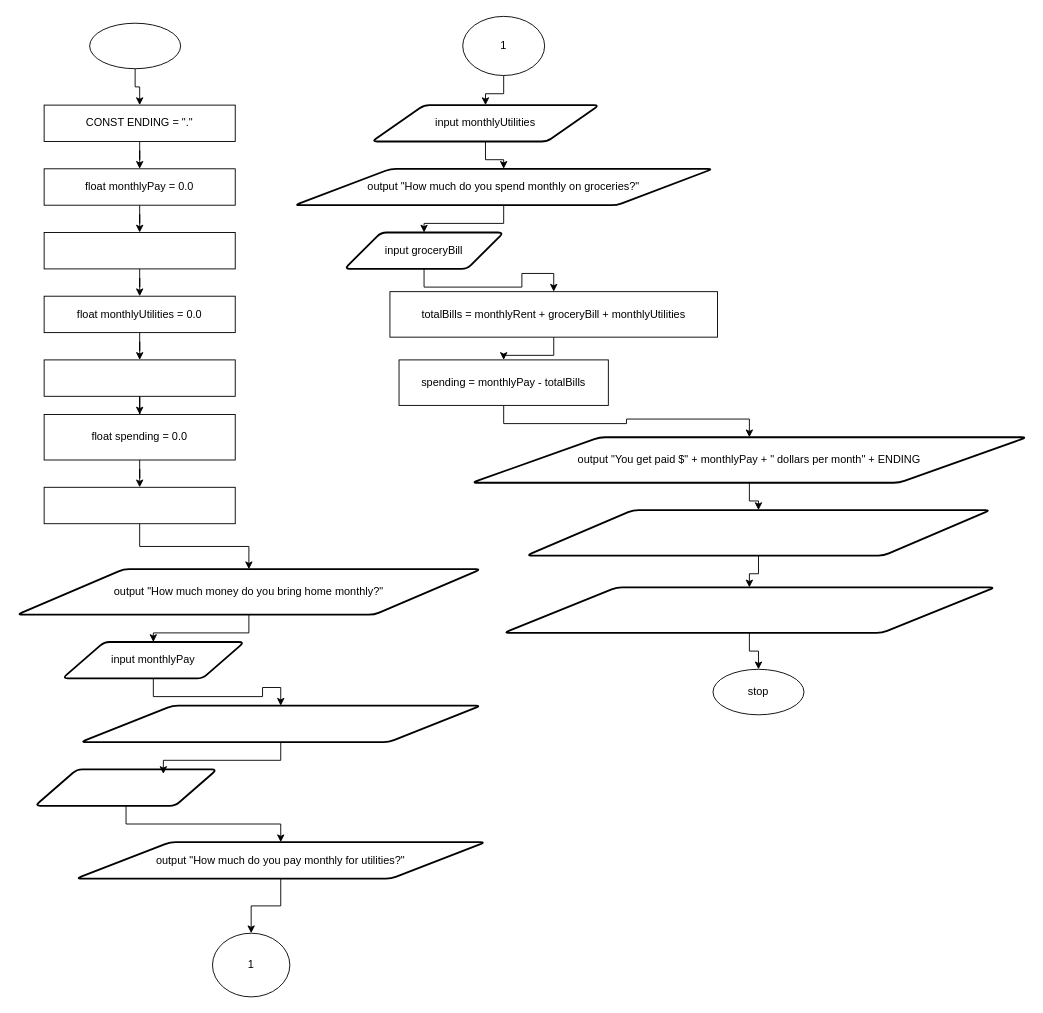
This 1043x1013 diagram has some shape labels left out. Here are the shapes that lost their labels. From the top down, the centre of each, then its label:
[135,45]: start
[139,250]: float monthlyRent = 0.0
[139,377]: float groceryBill = 0.0
[139,505]: float totalBills = 0.0
[758,532]: output "Your total monthly bills are $" + totalBills + ENDING
[749,609]: output "Which leaves you $" + spending + " free to spend" + ENDING
[280,723]: output "How much do you pay monthly for rent?"
[125,787]: input monthlyRent
